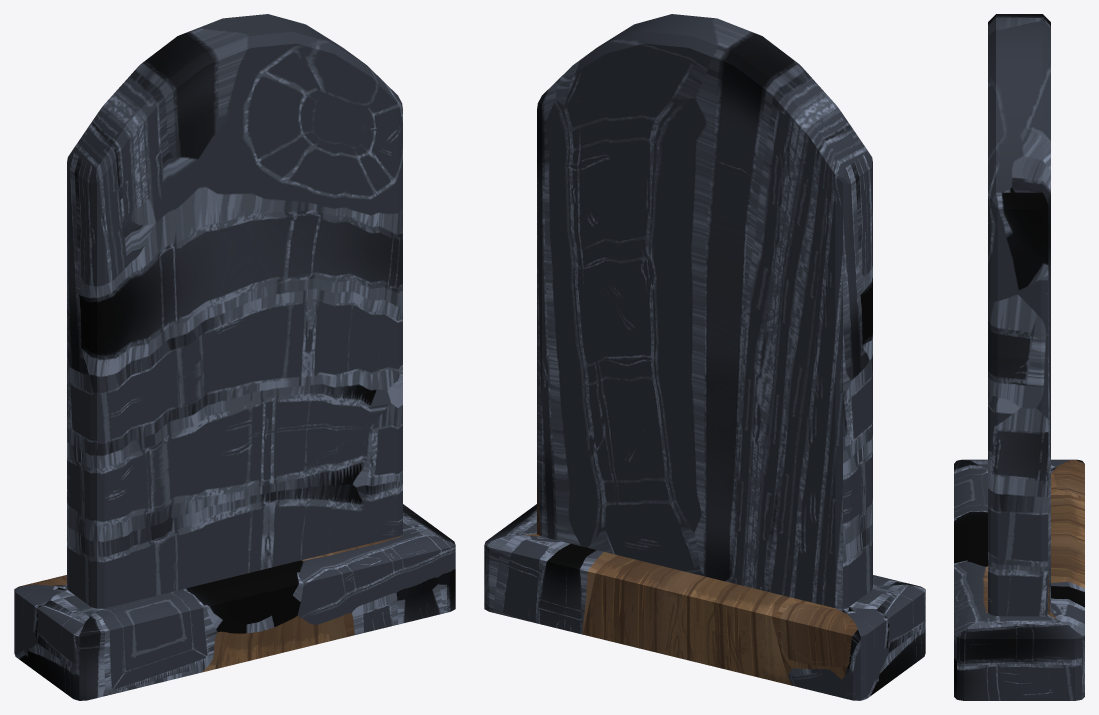
Rendered from tombstones2.fbx.
The picture shows the model from 3 angles, left to right: view 1: azimuth 30°, elevation 25°; view 2: azimuth 150°, elevation 25°; view 3: azimuth 270°, elevation 25°; orthographic projection. The views are drawn at different scales.
Parts seen in each view (by area): view 1: Tombstone 1_Lapide_0; view 2: Tombstone 1_Lapide_0; view 3: Tombstone 1_Lapide_0.
Boxes of the visible parts, left/top/right/bottom form: Tombstone 1_Lapide_0: left=14, top=14, right=455, bottom=700; Tombstone 1_Lapide_0: left=484, top=14, right=925, bottom=700; Tombstone 1_Lapide_0: left=954, top=14, right=1084, bottom=700.
Bounding box in the file's own units: 55.41 × 83.88 × 17.09.
